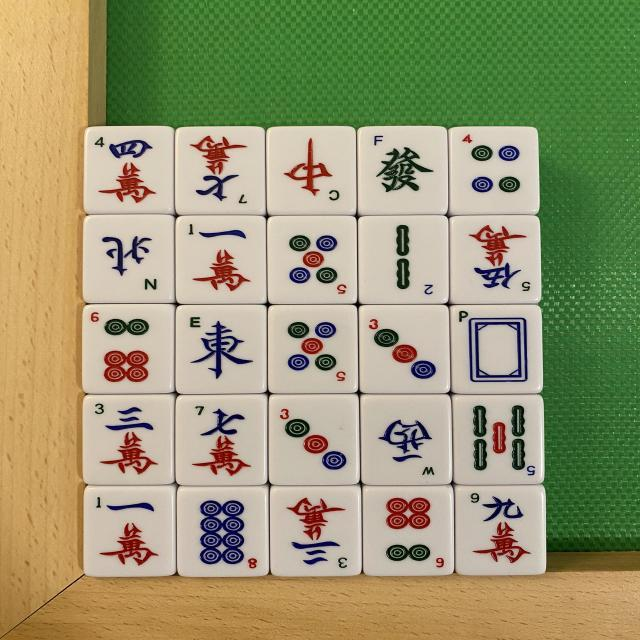hdg: (356, 126, 445, 216)
hdr: (266, 126, 354, 215)
hdw: (452, 306, 540, 392)
hwe: (176, 304, 266, 396)
hwn: (86, 214, 176, 304)
hww: (366, 394, 452, 486)
sb2: (362, 218, 446, 302)
sb5: (451, 395, 538, 487)
sc1: (86, 486, 176, 578), (184, 218, 259, 302)
sc3: (268, 488, 358, 580), (85, 396, 174, 486)
sc4: (88, 128, 174, 215)
sc5: (451, 218, 536, 300)
sc7: (177, 396, 267, 486), (181, 129, 261, 210)
sc9: (456, 486, 544, 576)
sd3: (270, 394, 360, 490), (358, 306, 449, 398)
sd4: (451, 124, 533, 215)
sd5: (266, 302, 355, 394), (266, 218, 356, 302)
sd6: (361, 490, 450, 580), (86, 306, 175, 396)
sd8: (178, 489, 266, 579)
